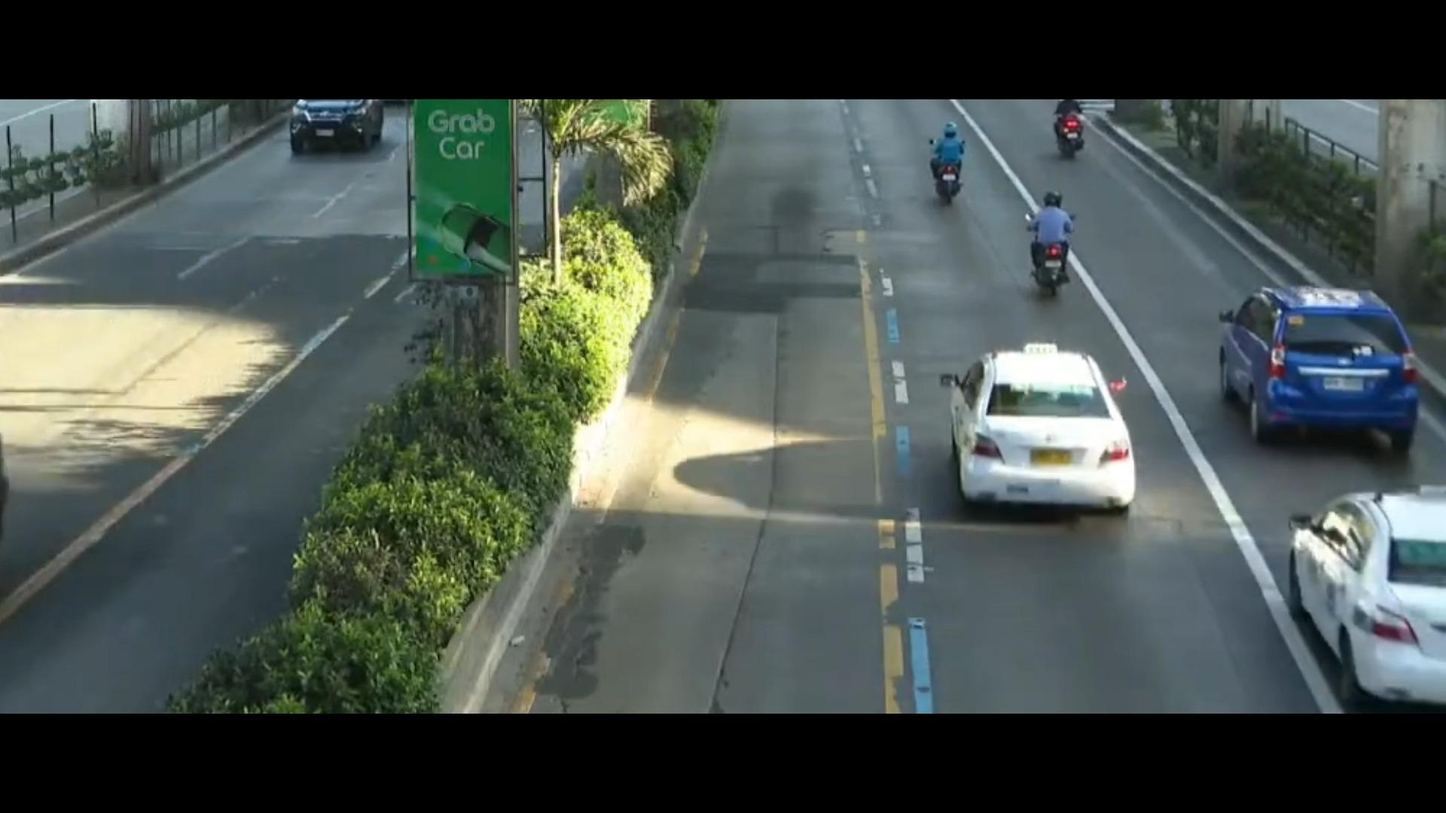Motorcycle: (1003, 187, 1098, 303), (905, 117, 985, 217), (1038, 96, 1096, 164)
SUV: (1202, 268, 1441, 449), (260, 98, 396, 164)
Sedan: (1234, 456, 1446, 711), (930, 322, 1176, 535)
